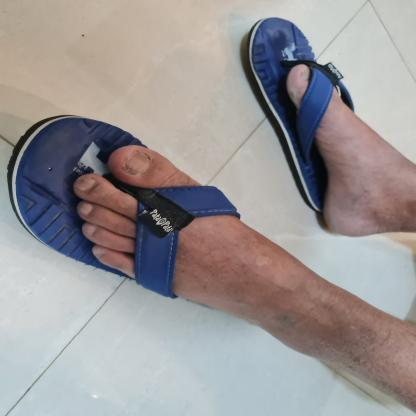leg: (64, 138, 416, 412), (281, 57, 416, 243)
